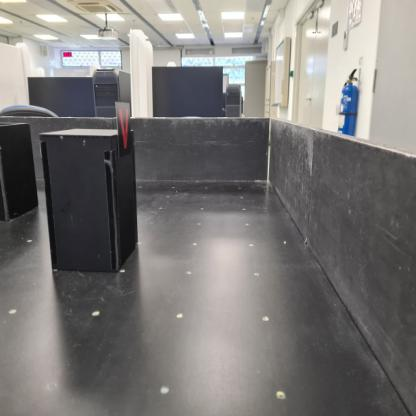v: (115, 101, 133, 160)
